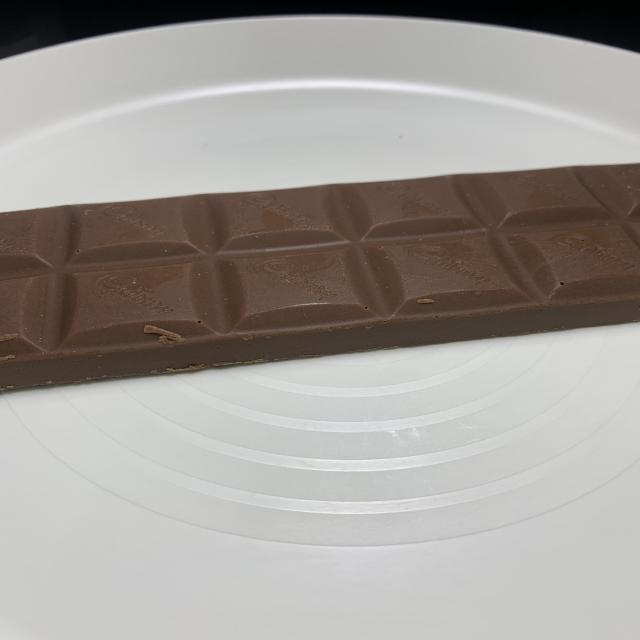chocolate: (0, 160, 640, 396)
